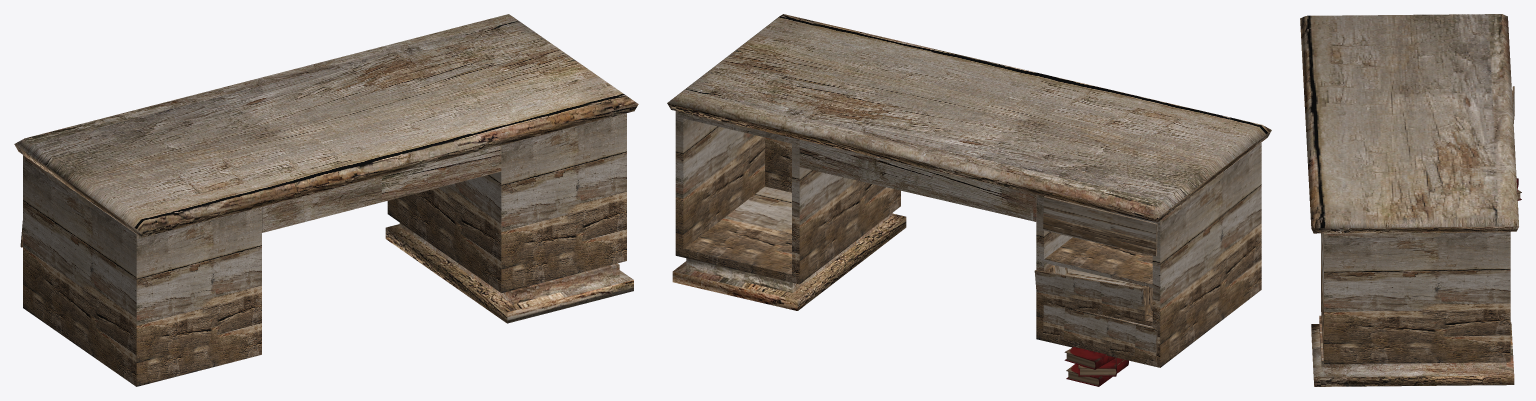
The model's file is desk.FBX.
3 views of the same model, side by side, from view 1: azimuth 30°, elevation 25°; view 2: azimuth 150°, elevation 25°; view 3: azimuth 270°, elevation 25° (orthographic). The views are drawn at different scales.
Parts seen in each view (by area): view 1: Desk, Box009, Box008, Box010; view 2: Desk, Box008, Box009, Box010, Box012, Box014, Box013, Book_Closed002, Book_Closed; view 3: Desk, Box008.
Boxes of the visible parts, x1,y1,x2,y2 form: Desk: [14, 14, 638, 323]; Box009: [23, 155, 261, 386]; Box008: [387, 113, 626, 292]; Box010: [262, 145, 501, 232]; Desk: [667, 14, 1271, 310]; Box008: [675, 111, 900, 284]; Box009: [1036, 142, 1261, 367]; Box010: [799, 139, 1036, 221]; Box012: [1034, 265, 1152, 321]; Box014: [1043, 196, 1157, 256]; Box013: [1043, 304, 1157, 361]; Book_Closed002: [1064, 347, 1115, 369]; Book_Closed: [1066, 358, 1128, 386]; Desk: [1300, 14, 1518, 386]; Box008: [1321, 231, 1510, 364].
Size of the model in its own units: 18.5 by 6.73 by 8.18.
2 materials, 2 textured.
